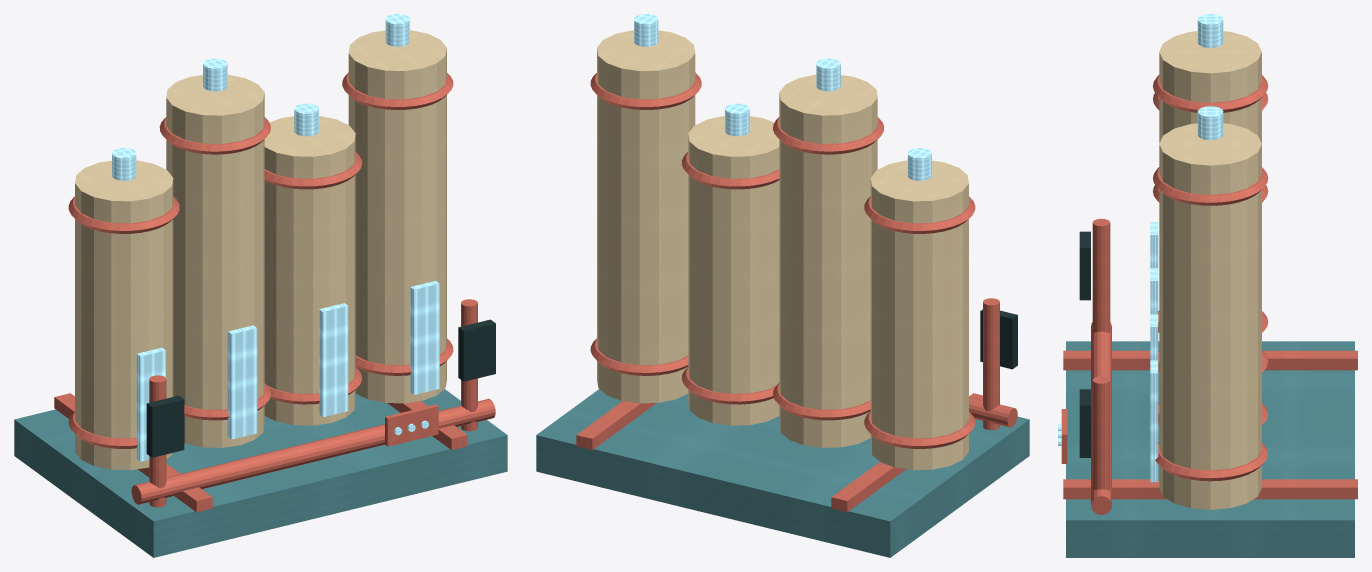
File: atlas100-s075-a02.glb
3 views of the same model, side by side, from view 1: azimuth 30°, elevation 25°; view 2: azimuth 150°, elevation 25°; view 3: azimuth 270°, elevation 25° (orthographic). The views are drawn at different scales.
Parts seen in each view (by area): view 1: atlas100-s075-a02:part-000, atlas100-s075-a02:part-018, atlas100-s075-a02:part-008, atlas100-s075-a02:part-003, atlas100-s075-a02:part-013, atlas100-s075-a02:part-027, atlas100-s075-a02:part-012, atlas100-s075-a02:part-017, atlas100-s075-a02:part-022, atlas100-s075-a02:part-024, atlas100-s075-a02:part-026, atlas100-s075-a02:part-007 (+17 smaller); view 2: atlas100-s075-a02:part-000, atlas100-s075-a02:part-008, atlas100-s075-a02:part-018, atlas100-s075-a02:part-003, atlas100-s075-a02:part-013, atlas100-s075-a02:part-023, atlas100-s075-a02:part-001, atlas100-s075-a02:part-002, atlas100-s075-a02:part-010, atlas100-s075-a02:part-005, atlas100-s075-a02:part-020, atlas100-s075-a02:part-004 (+10 smaller); view 3: atlas100-s075-a02:part-018, atlas100-s075-a02:part-000, atlas100-s075-a02:part-008, atlas100-s075-a02:part-002, atlas100-s075-a02:part-001, atlas100-s075-a02:part-025, atlas100-s075-a02:part-023, atlas100-s075-a02:part-027, atlas100-s075-a02:part-020, atlas100-s075-a02:part-019, atlas100-s075-a02:part-010, atlas100-s075-a02:part-022 (+8 smaller).
Boxes of the visible parts, box(x1,y1,x2,y2) form: atlas100-s075-a02:part-000: box(14, 389, 507, 557); atlas100-s075-a02:part-018: box(348, 30, 446, 403); atlas100-s075-a02:part-008: box(166, 74, 264, 447); atlas100-s075-a02:part-003: box(75, 160, 173, 470); atlas100-s075-a02:part-013: box(264, 116, 355, 425); atlas100-s075-a02:part-027: box(131, 398, 495, 504); atlas100-s075-a02:part-012: box(227, 325, 257, 439); atlas100-s075-a02:part-017: box(319, 303, 348, 417); atlas100-s075-a02:part-022: box(410, 281, 439, 394); atlas100-s075-a02:part-024: box(146, 395, 184, 457); atlas100-s075-a02:part-026: box(458, 319, 495, 381); atlas100-s075-a02:part-007: box(136, 347, 165, 461); atlas100-s075-a02:part-000: box(536, 389, 1029, 557); atlas100-s075-a02:part-008: box(779, 74, 877, 447); atlas100-s075-a02:part-018: box(597, 30, 695, 403); atlas100-s075-a02:part-003: box(870, 160, 968, 470); atlas100-s075-a02:part-013: box(688, 116, 779, 425); atlas100-s075-a02:part-023: box(983, 298, 999, 430); atlas100-s075-a02:part-001: box(831, 393, 982, 512); atlas100-s075-a02:part-002: box(576, 401, 656, 449); atlas100-s075-a02:part-010: box(773, 117, 884, 154); atlas100-s075-a02:part-005: box(864, 196, 975, 233); atlas100-s075-a02:part-020: box(590, 72, 701, 109); atlas100-s075-a02:part-004: box(864, 411, 975, 448); atlas100-s075-a02:part-018: box(1159, 123, 1261, 509); atlas100-s075-a02:part-000: box(1066, 341, 1354, 557); atlas100-s075-a02:part-008: box(1159, 31, 1261, 143); atlas100-s075-a02:part-002: box(1063, 479, 1357, 499); atlas100-s075-a02:part-001: box(1063, 350, 1357, 370); atlas100-s075-a02:part-025: box(1092, 376, 1110, 490); atlas100-s075-a02:part-023: box(1092, 218, 1110, 332); atlas100-s075-a02:part-027: box(1091, 322, 1111, 514); atlas100-s075-a02:part-020: box(1153, 167, 1268, 205); atlas100-s075-a02:part-019: box(1155, 442, 1268, 481); atlas100-s075-a02:part-010: box(1153, 75, 1268, 112); atlas100-s075-a02:part-022: box(1150, 360, 1158, 482).
Size of the model in its own units: 2.76 by 2.93 by 1.87.
5 materials, 5 textured.
